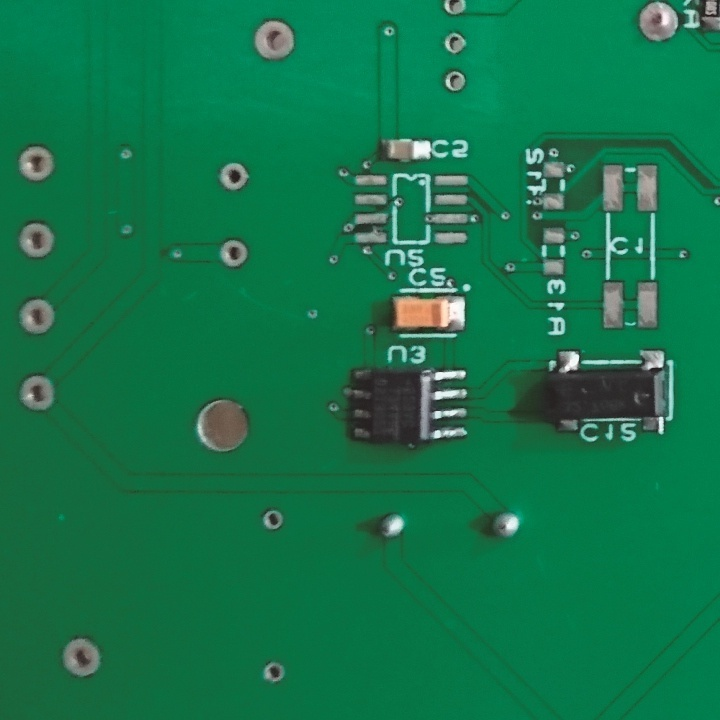F: (633, 1, 682, 48), (249, 19, 304, 60), (59, 635, 106, 680), (14, 220, 58, 261), (16, 372, 56, 416), (15, 298, 59, 336), (16, 143, 57, 183), (214, 160, 250, 196), (215, 237, 250, 272), (260, 660, 293, 686), (441, 31, 468, 58), (441, 66, 469, 92), (260, 509, 286, 534), (439, 1, 470, 19)
